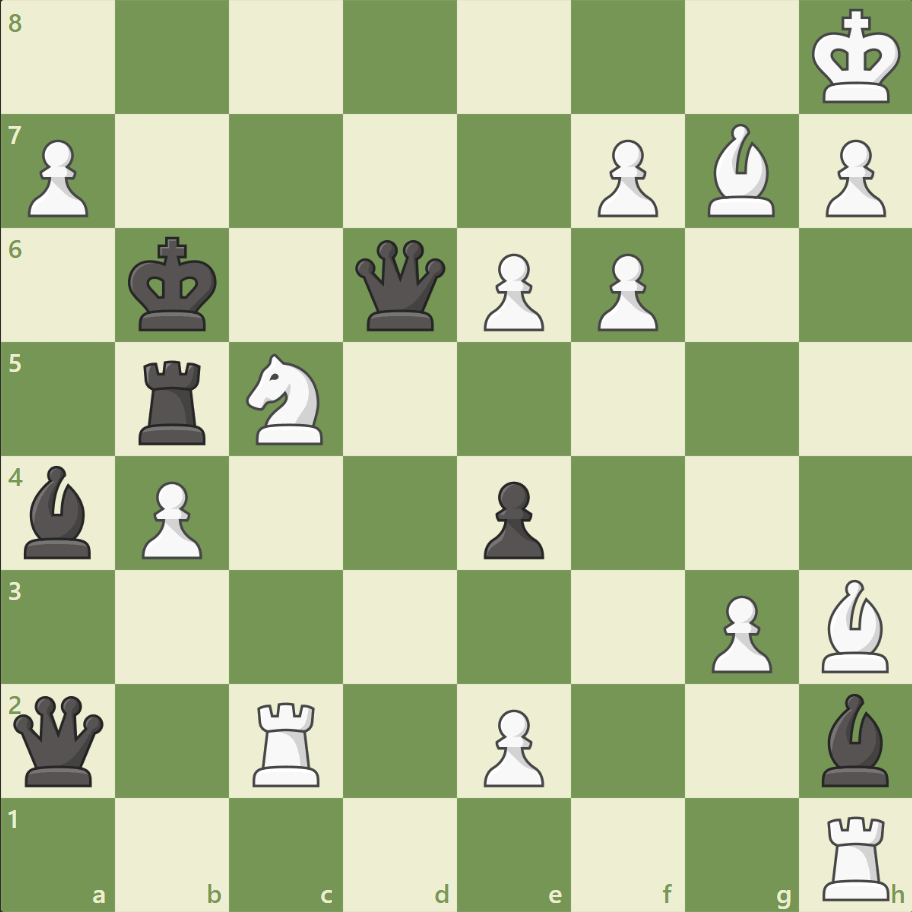B: (698, 120, 782, 222), (812, 574, 896, 676)
K: (806, 4, 906, 112)
N: (238, 348, 335, 450)
P: (20, 132, 95, 223), (474, 246, 549, 337), (133, 473, 208, 564), (701, 586, 776, 677), (474, 700, 549, 791), (588, 132, 662, 223), (815, 132, 889, 223), (588, 246, 662, 337)
R: (814, 806, 897, 904), (246, 693, 329, 790)
b: (17, 460, 101, 563), (812, 687, 896, 790)
k: (124, 231, 224, 339)
p: (474, 473, 549, 564)
q: (351, 236, 450, 335), (10, 690, 109, 789)
r: (133, 352, 215, 449)
